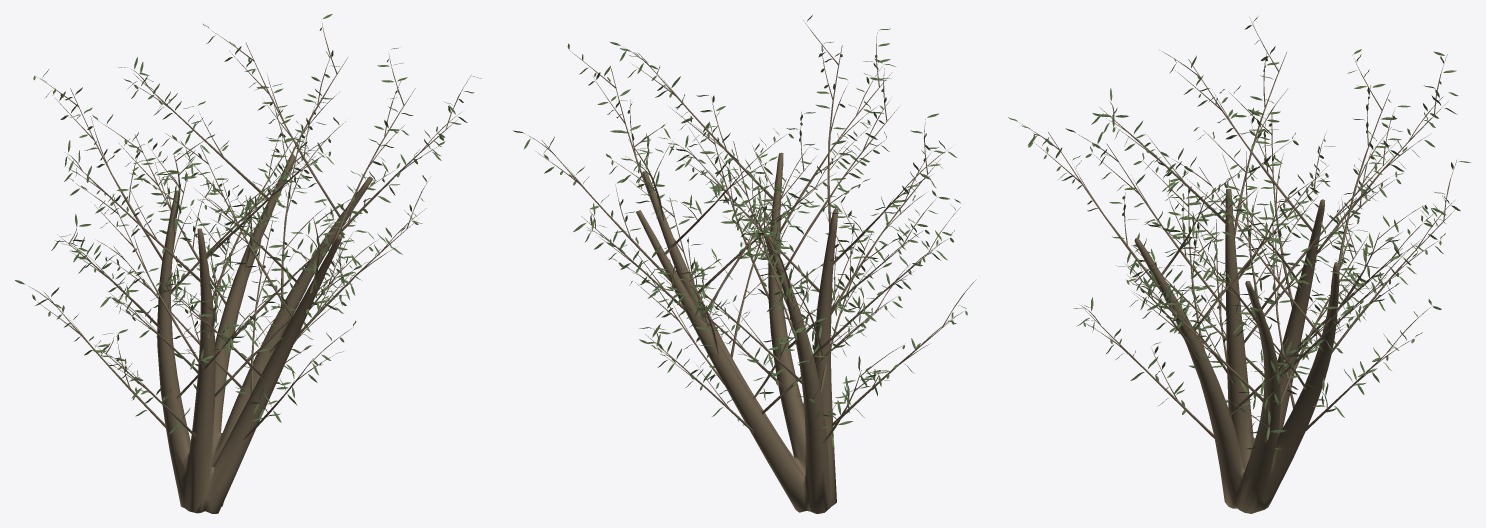
The model's file is Filaire_2_Niveau0.fbx.
3 views of the same model, side by side, from view 1: azimuth 30°, elevation 25°; view 2: azimuth 150°, elevation 25°; view 3: azimuth 270°, elevation 25° (orthographic). The views are drawn at different scales.
Visible parts, largest first — view 1: Filaire_2_Niveau0; view 2: Filaire_2_Niveau0; view 3: Filaire_2_Niveau0.
Boxes of the visible parts, <box> form: Filaire_2_Niveau0: <box>15,14,481,513</box>; Filaire_2_Niveau0: <box>513,15,976,513</box>; Filaire_2_Niveau0: <box>1008,17,1470,513</box>.
Size of the model in its own units: 156 by 156 by 145.
